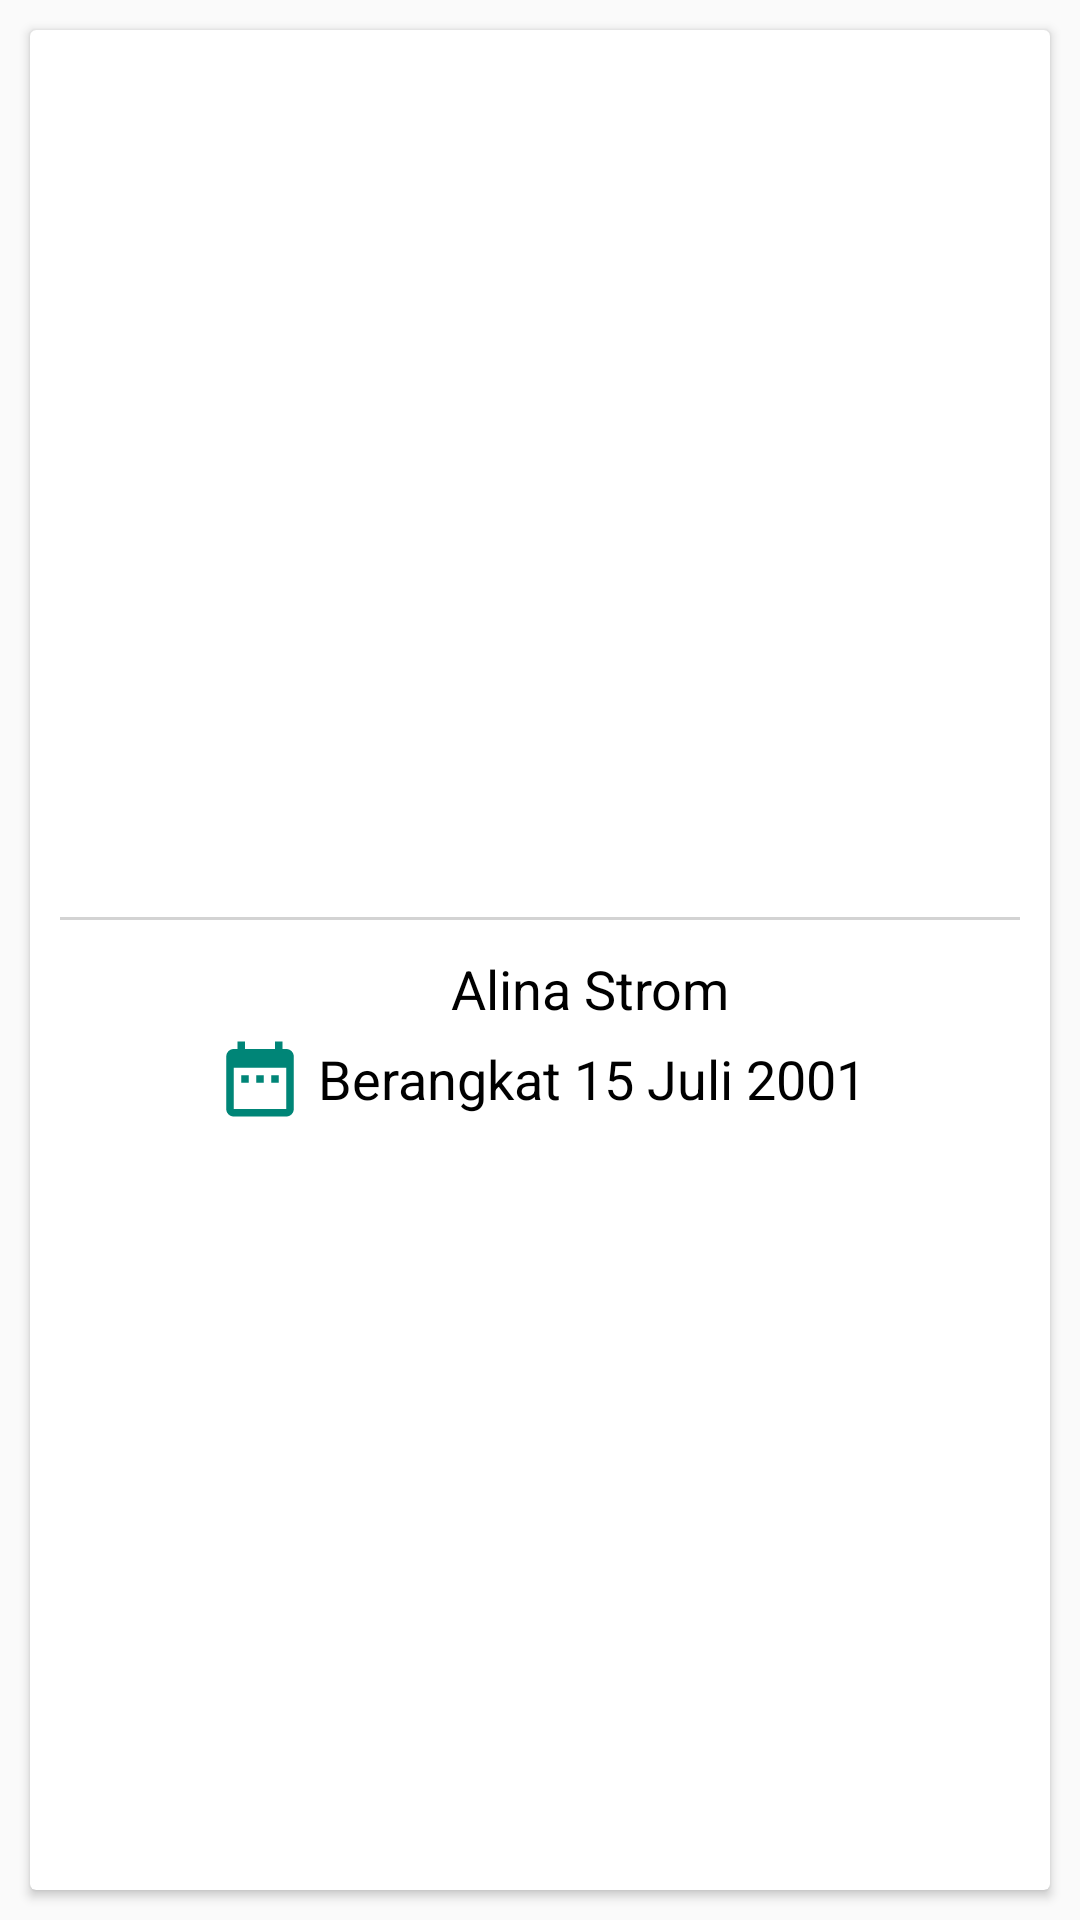

Icon click points for this 1080w x 1920h phone screenshot, format [x,y]:
date range: [260,1079]
